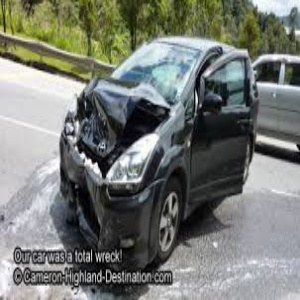bonnet: (78, 77, 163, 127)
